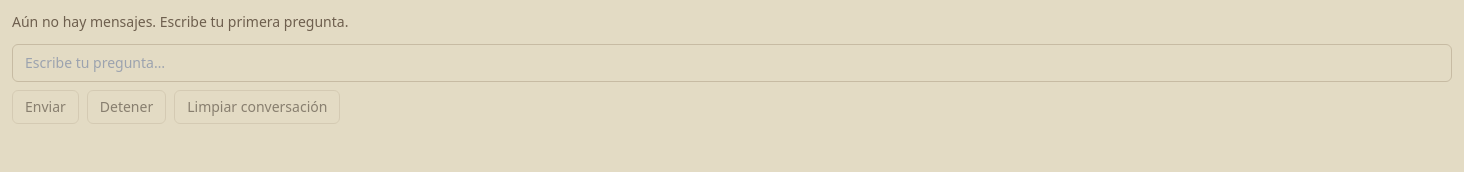
Test: ChatPanel — gating vía isChatEnabled(engine) (§9.8) › con engine.active === 'ollama' y texto en el input, el botón Enviar está habilitado
Type "hola" into the field labelled "Escribe tu pregunta…" at (732, 63), box [12,44,1452,82]
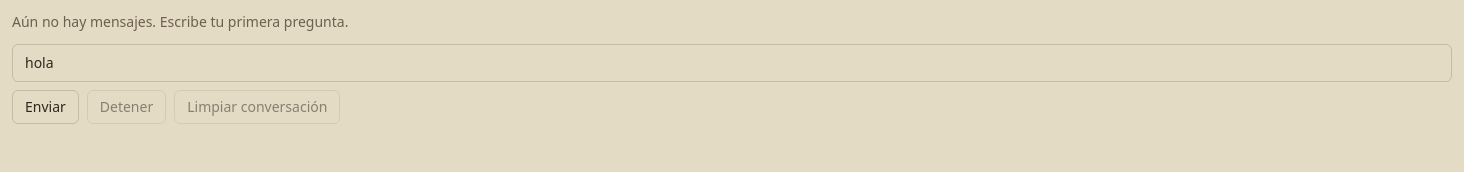
Expected: the button "Enviar" is enabled, [12,90,79,124]
